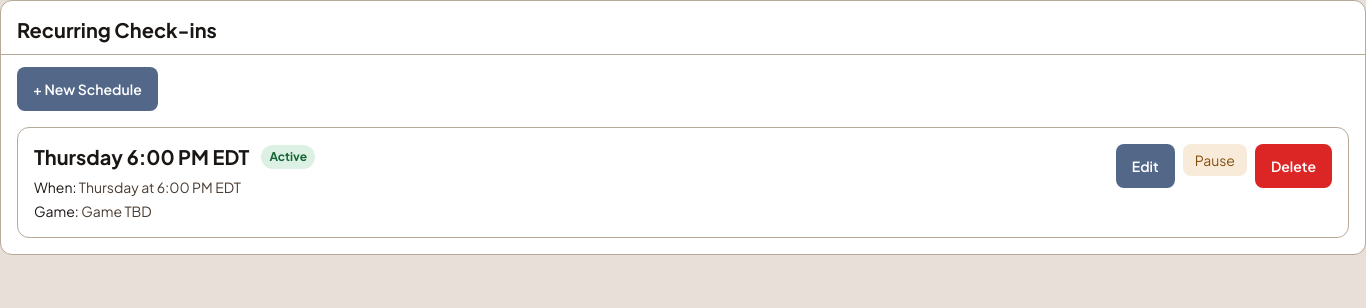
Scenario: PromptScheduleManager — the cached list survives a failed refresh under RF1; one toggle per press (88.6.1-30, AC-29 / Req 4) › M4. a successful Retry removes the notice and lands focus on the Recurring Check-ins heading (C8 c)
The width and height of the screenshot is (1366, 308).
Click the button "Pause" at (1215, 160), box [1183,144,1247,176]
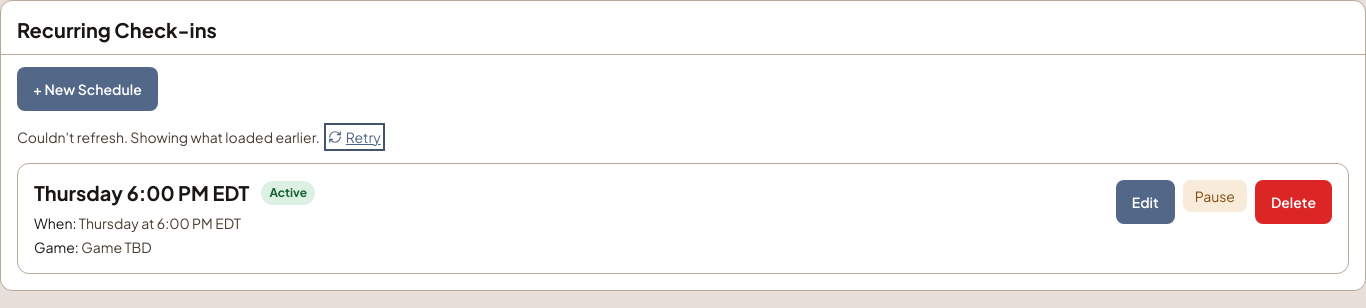
Check: the text "Couldn't refresh. Showing what loaded earlier." is shown once, box [17,128,320,146]
Click the button "Retry" at (354, 137), box [328,127,381,147]
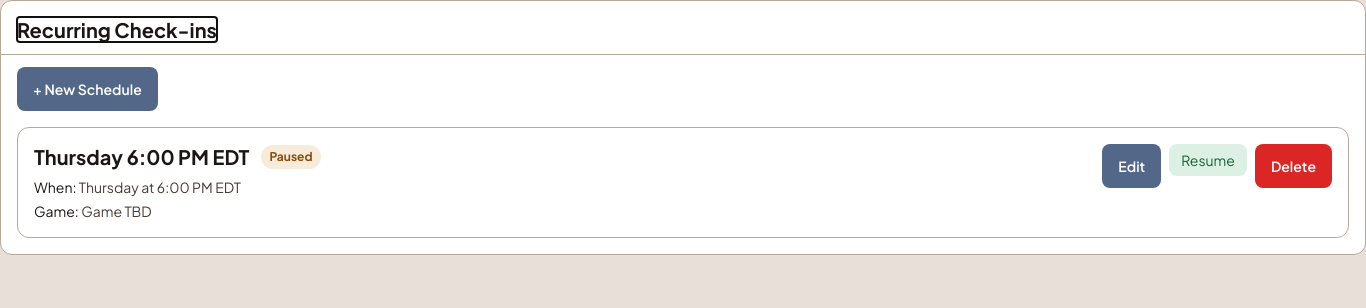
Check: the button "Resume" is shown, box [1169,144,1247,176]
Check: the button "Retry" is gone
Check: the text "Couldn't refresh. Showing what loaded earlier." is not shown
